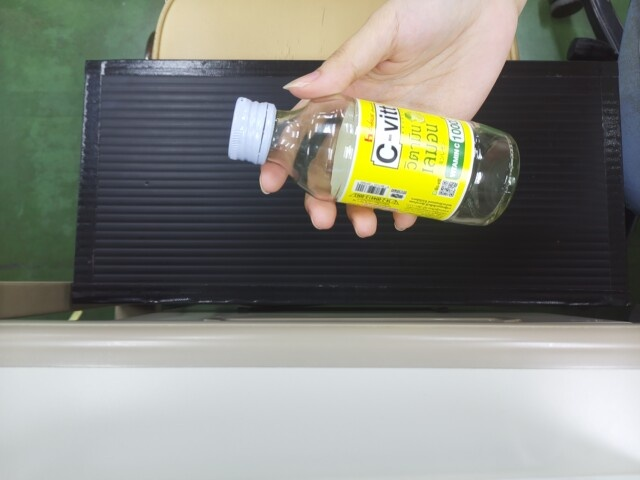glass_bottle: (232, 90, 514, 226)
